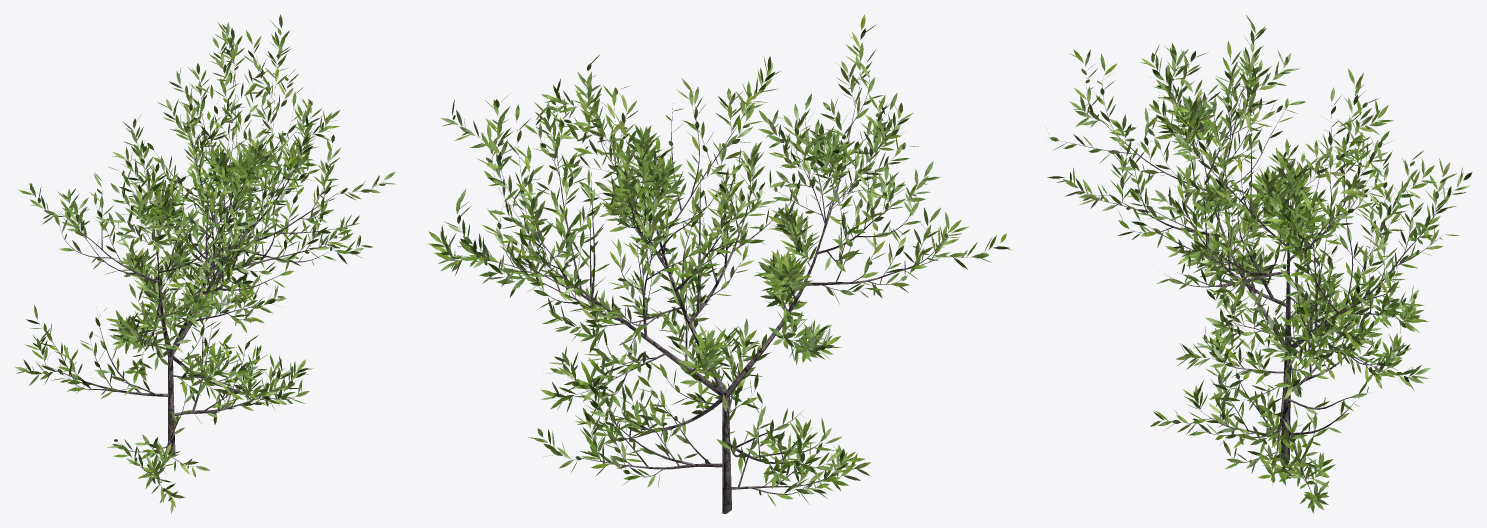
The model's file is Bush1.fbx.
The picture shows the model from 3 angles, left to right: view 1: azimuth 30°, elevation 25°; view 2: azimuth 150°, elevation 25°; view 3: azimuth 270°, elevation 25°; orthographic projection. The views are drawn at different scales.
Visible parts, largest first — view 1: bush.001; view 2: bush.001; view 3: bush.001.
Part boxes in pixels (x1,y1,x2,y2): bush.001: (14,14,395,513); bush.001: (427,14,1012,513); bush.001: (1045,15,1472,513).
Bounding box in the file's own units: 3.21 × 3.3 × 2.94.
